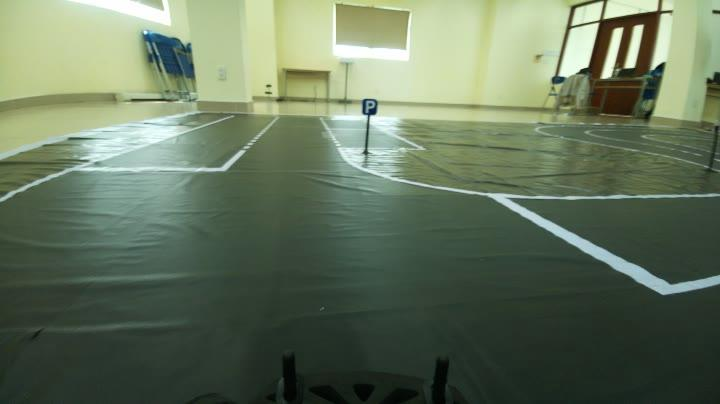parking: (360, 94, 379, 117)
